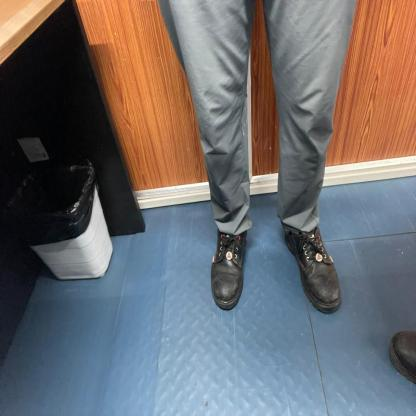bota: (284, 223, 343, 316), (210, 226, 249, 312)
